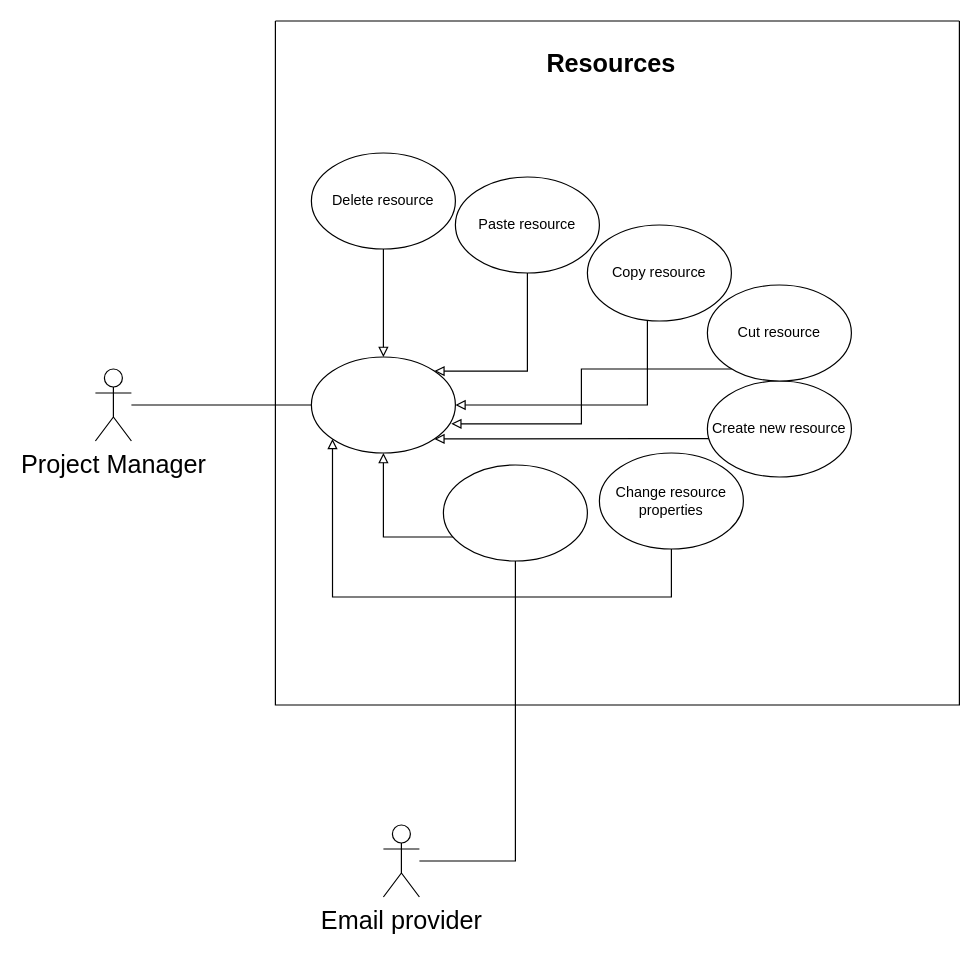
The diagram is 980 pixels wide and 956 high, and some of its shapes have lost their labels. Each missing label, with the centre of its shape:
Edit Resource: (x=382, y=404)
Send e-mail to resource: (x=514, y=512)
